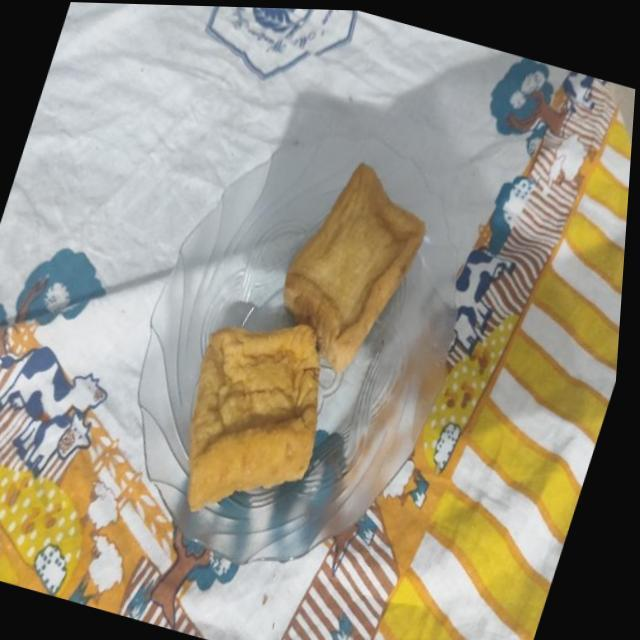tahu_goreng: (284, 163, 424, 372), (187, 324, 320, 511)
